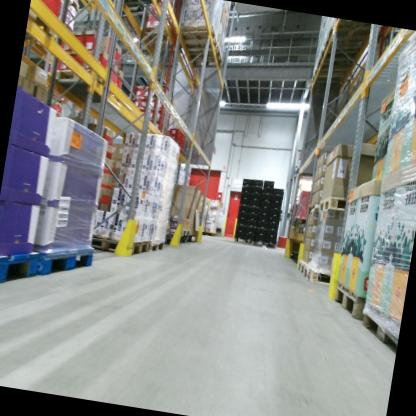pallet: (48, 59, 125, 101), (29, 244, 96, 286), (168, 39, 229, 84), (355, 300, 402, 353), (25, 0, 71, 48), (0, 249, 41, 294), (87, 234, 150, 262), (330, 278, 369, 321), (137, 12, 179, 47), (180, 19, 220, 53), (317, 189, 358, 221), (302, 262, 335, 285), (147, 238, 166, 262), (163, 227, 192, 240), (253, 237, 278, 252), (304, 196, 320, 219), (232, 236, 256, 248), (295, 257, 306, 275), (292, 216, 304, 227), (298, 222, 307, 236), (293, 223, 301, 235), (287, 225, 294, 234)
small_load_carrier: (270, 186, 287, 202), (249, 184, 264, 195), (259, 201, 271, 214), (233, 228, 245, 241), (267, 212, 282, 222), (260, 186, 273, 197), (270, 199, 284, 209), (262, 179, 274, 190), (265, 233, 277, 244), (266, 220, 280, 229), (234, 216, 248, 225), (240, 186, 252, 196), (259, 195, 272, 204), (235, 209, 248, 218), (249, 193, 263, 201), (241, 177, 252, 187), (255, 220, 267, 229), (254, 227, 266, 236), (251, 177, 263, 186), (247, 206, 259, 215), (244, 226, 256, 235), (243, 234, 255, 243), (238, 195, 250, 204), (268, 207, 283, 214), (265, 227, 278, 235), (246, 213, 259, 221), (257, 212, 268, 221), (248, 199, 260, 207), (246, 219, 258, 227), (238, 203, 249, 211), (253, 234, 265, 241), (235, 223, 247, 230)
